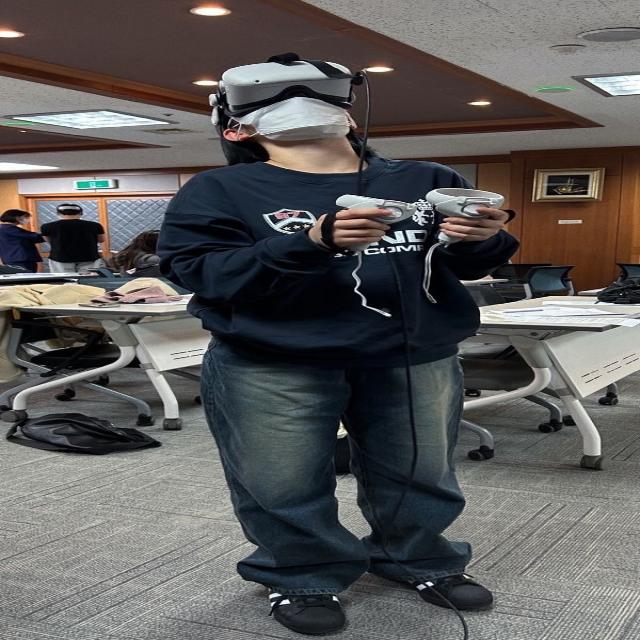denimpants: (198, 334, 466, 588)
mtm: (160, 164, 524, 361)
